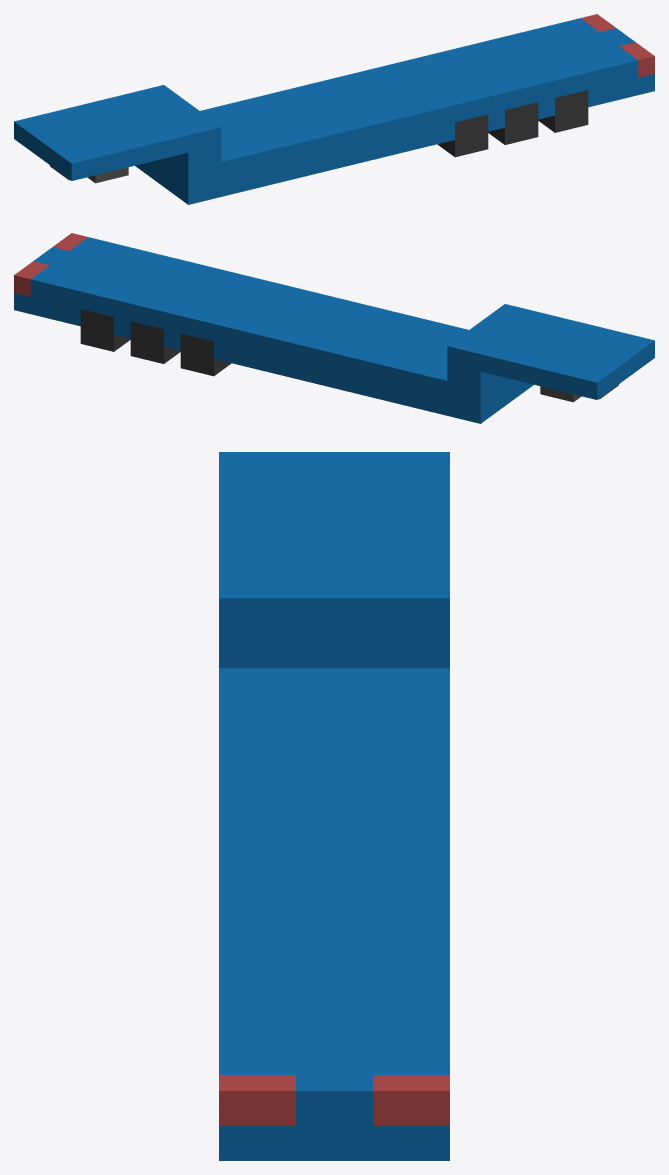
File: semitrailer-v2-blue.gltf
The picture shows the model from 3 angles, top to bottom: view 1: azimuth 30°, elevation 25°; view 2: azimuth 150°, elevation 25°; view 3: azimuth 270°, elevation 25°; orthographic projection. The views are drawn at different scales.
Visible parts, largest first — view 1: model, wheels; view 2: model, wheels; view 3: model.
Part boxes in pixels (x1,y1,x2,y2): model: (14, 14, 654, 204); wheels: (437, 90, 588, 157); model: (14, 233, 654, 423); wheels: (80, 309, 231, 376); model: (219, 452, 449, 1160).
Bounding box in the file's own units: 3.5 × 0.5 × 0.6.
Materials: 2 (2 with a texture image).
